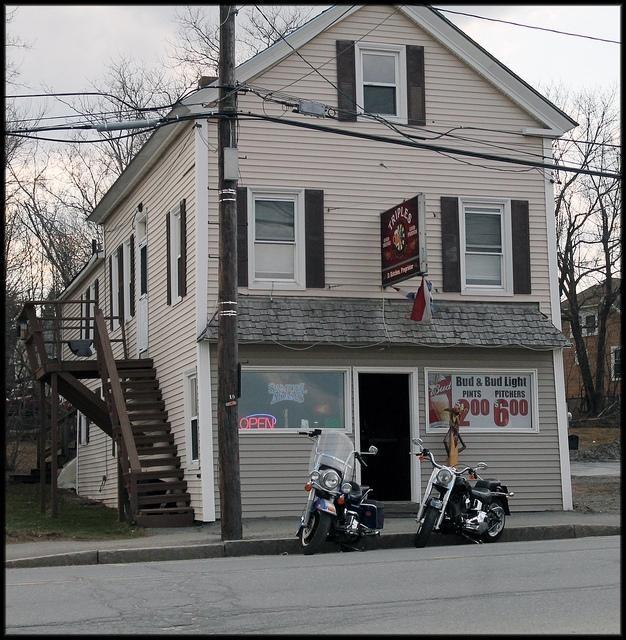motorcycle: (294, 426, 386, 556), (411, 436, 514, 550)
